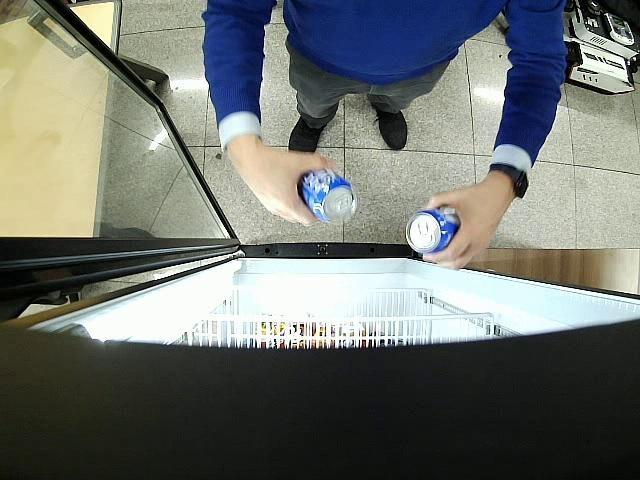13_pocariSweat: (300, 168, 356, 222), (406, 206, 460, 254)
